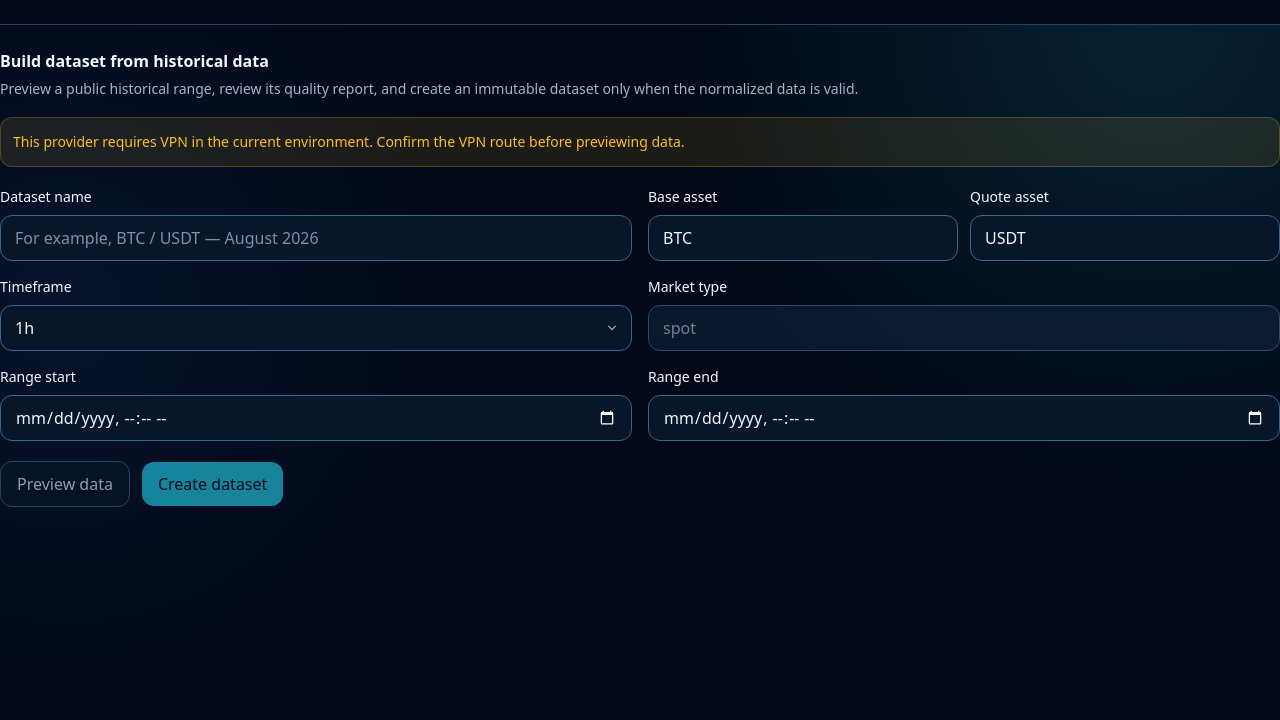
Test: HistoricalDatasetImportForm › requires a new preview when provider content changes before import
Type "BTC August sample" into the field labelled "Dataset name".
click(316, 238); type("BTC August sample")  # box [0, 215, 632, 261]
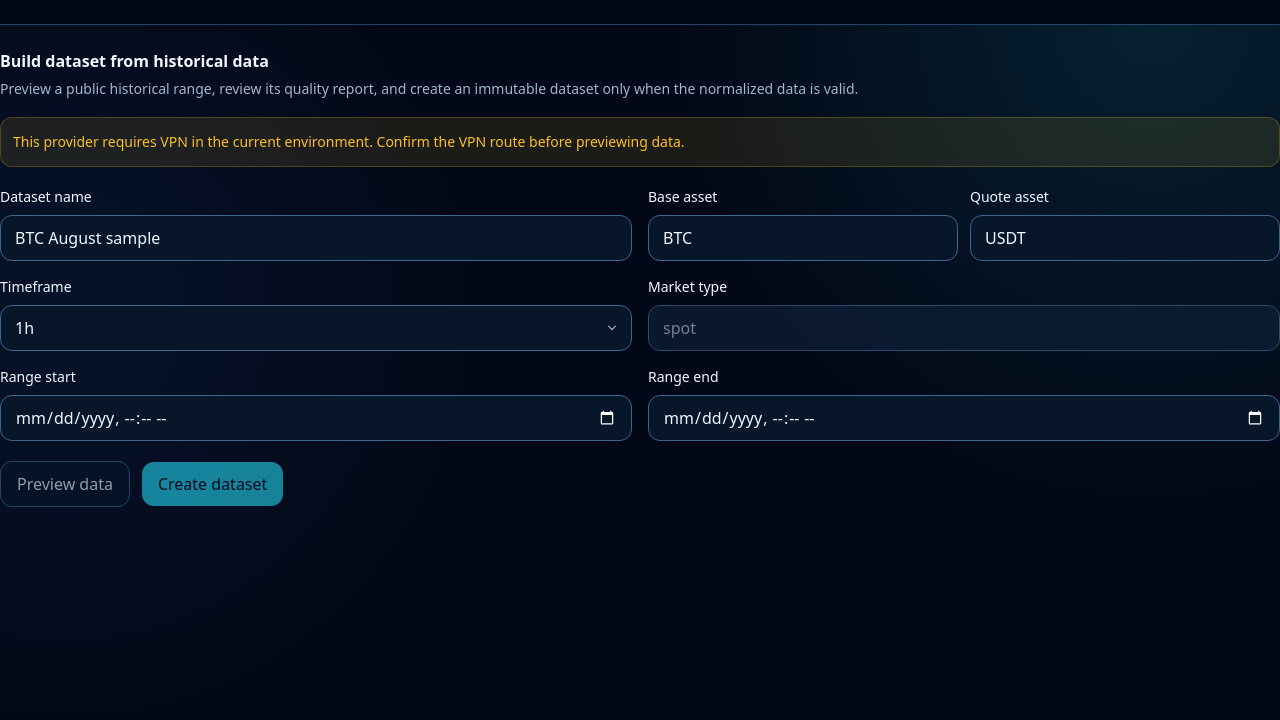
Type "2026-08-20T00:00" into the field labelled "Range start".
click(316, 418); type("2026-08-20T00:00")  # box [0, 395, 632, 441]
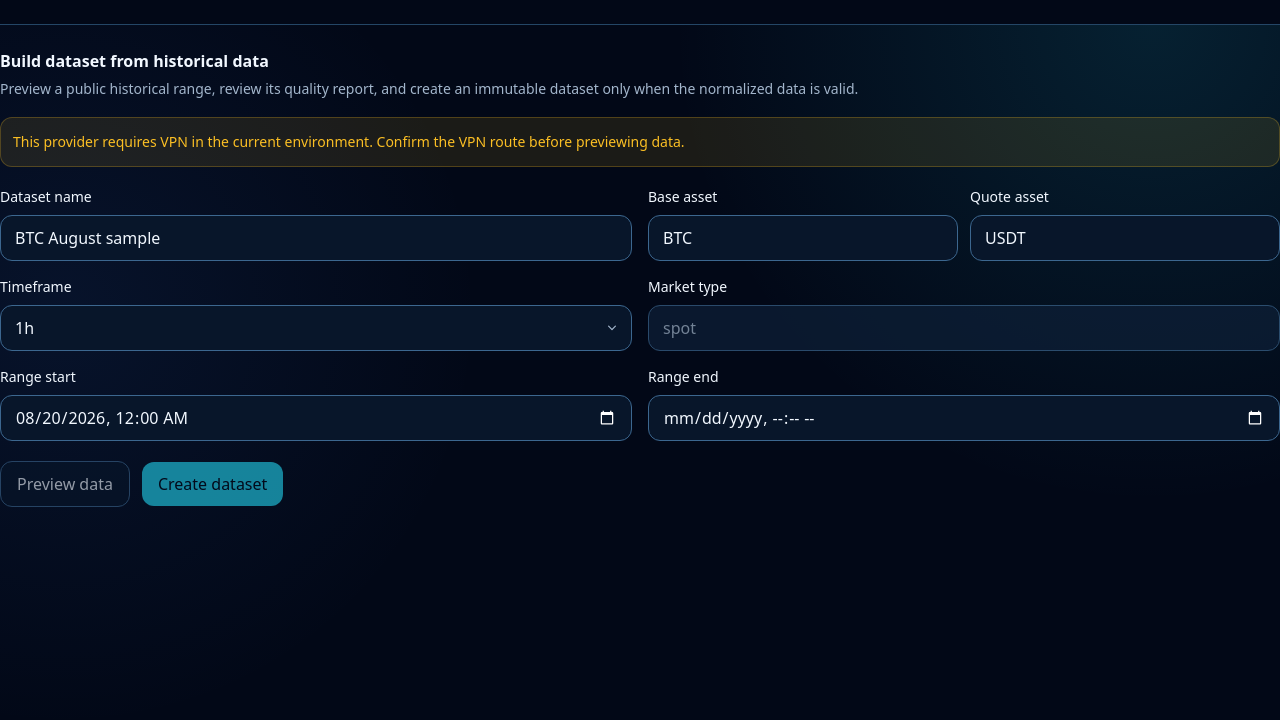
Type "2026-08-21T00:00" into the field labelled "Range end".
click(964, 418); type("2026-08-21T00:00")  # box [648, 395, 1279, 441]
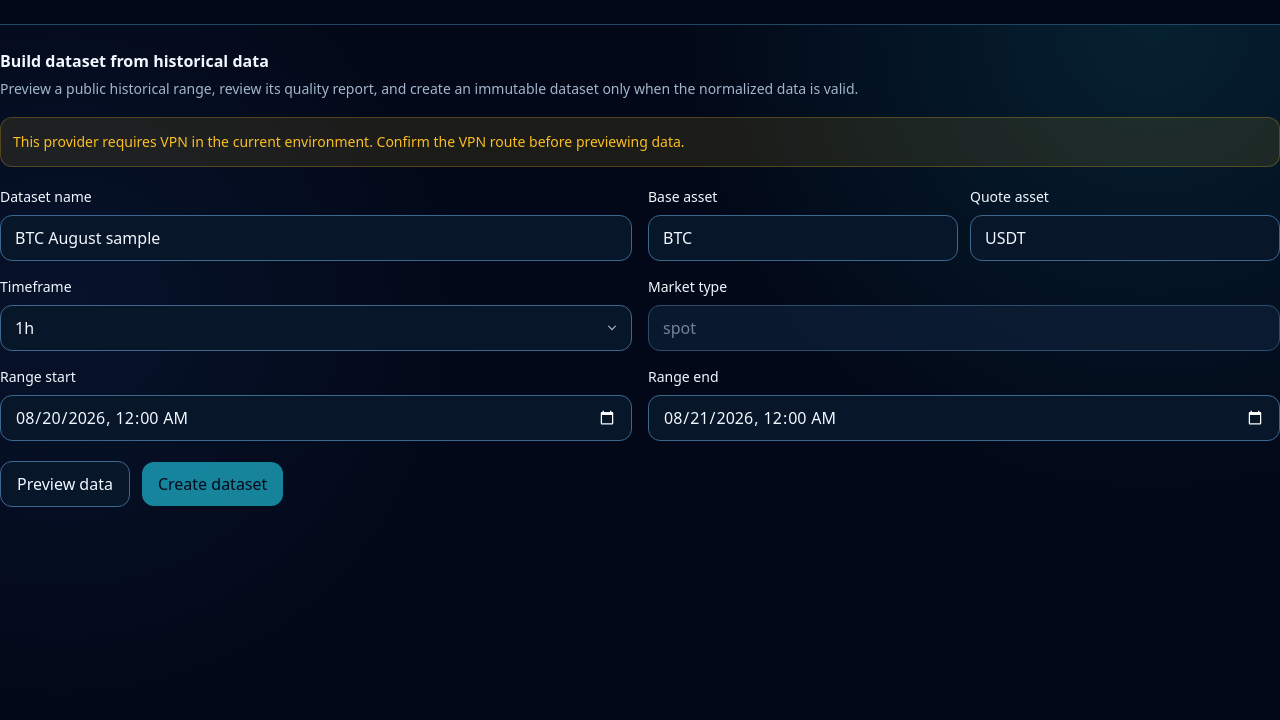
Click the button "Preview data".
click(65, 484)  # box [0, 461, 130, 507]
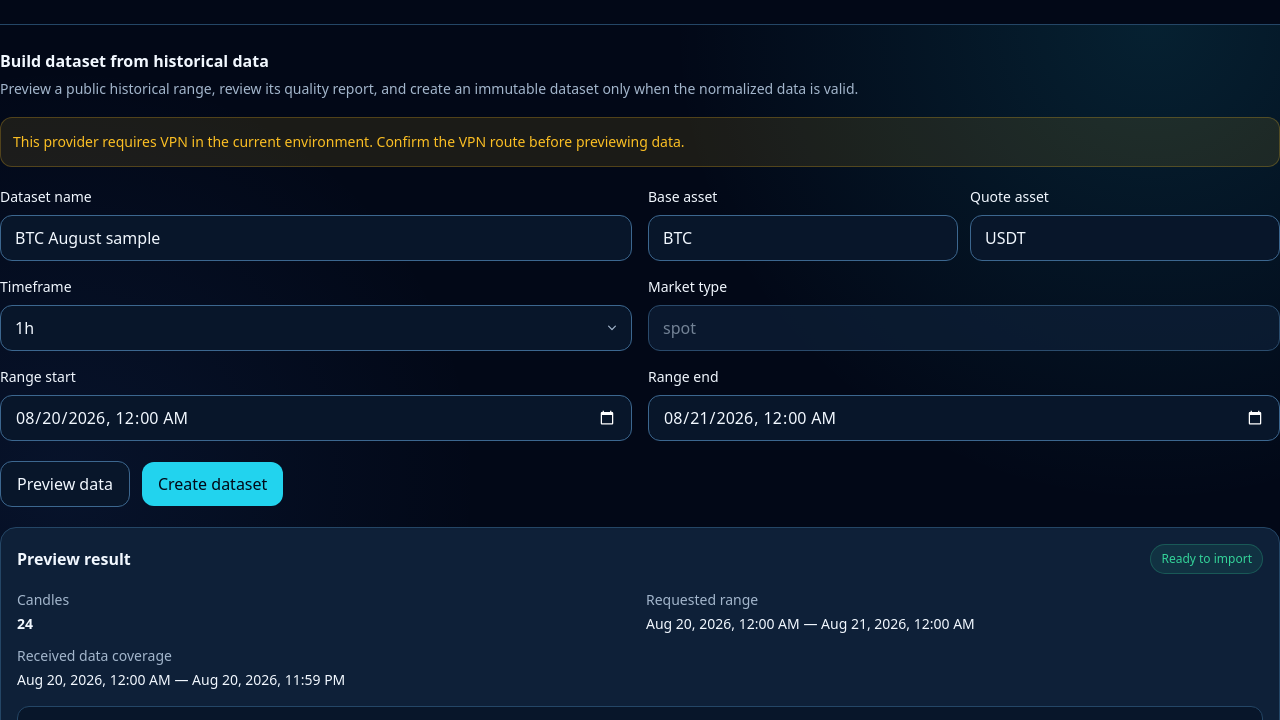
Click the button "Create dataset".
click(213, 484)  # box [142, 462, 283, 506]
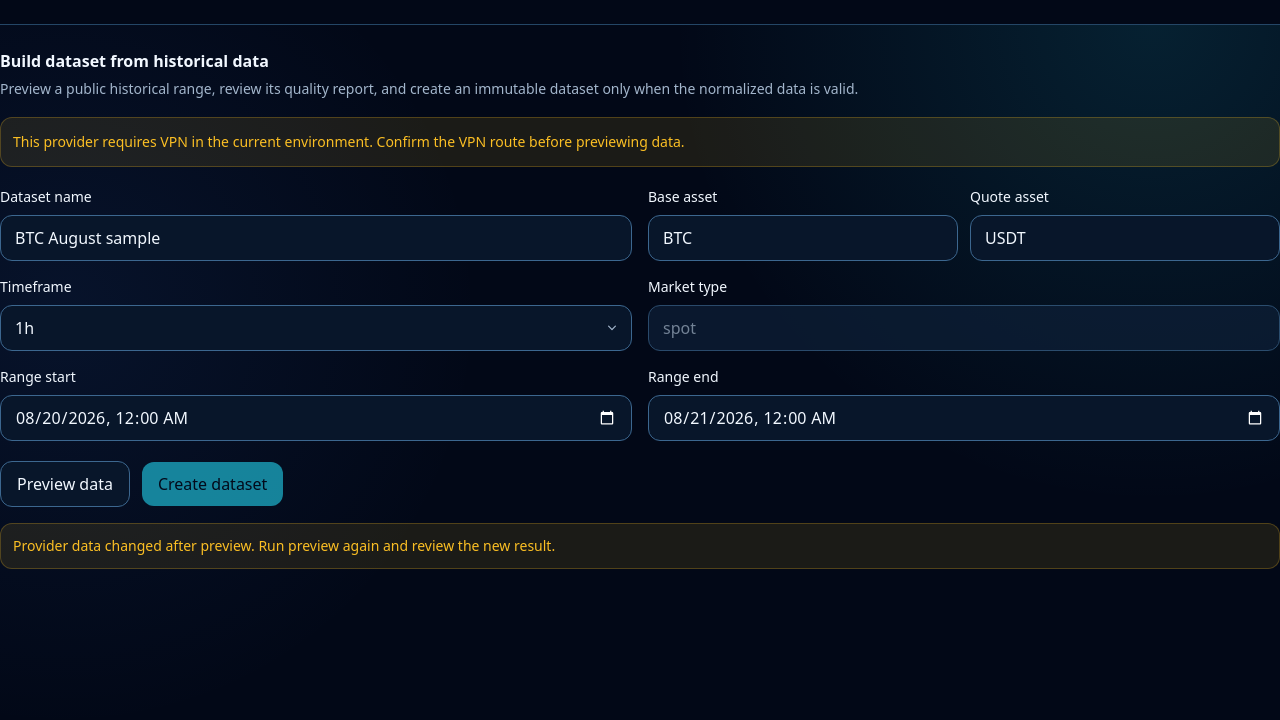
Now the text "Provider data changed after preview. Run preview again and review the new result." is shown, box [13, 536, 555, 555]
Now the button "Create dataset" is disabled, box [142, 462, 283, 506]
